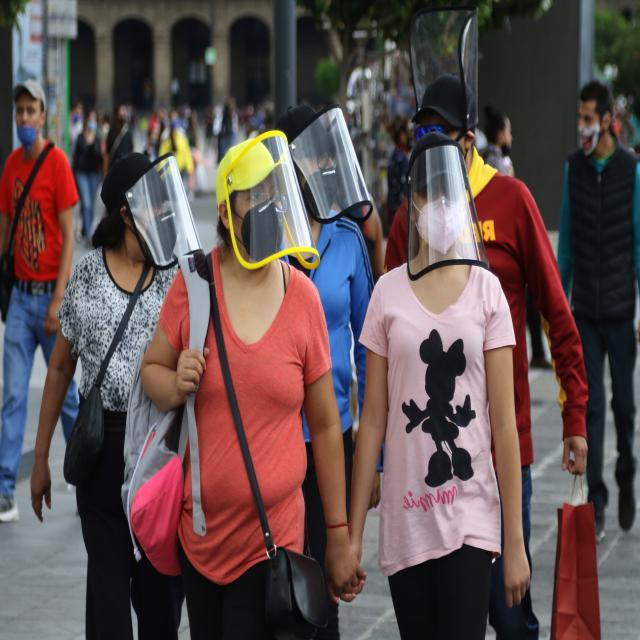adult: (141, 138, 351, 640), (348, 140, 526, 640), (31, 152, 190, 640), (548, 73, 640, 531), (0, 81, 73, 526)
